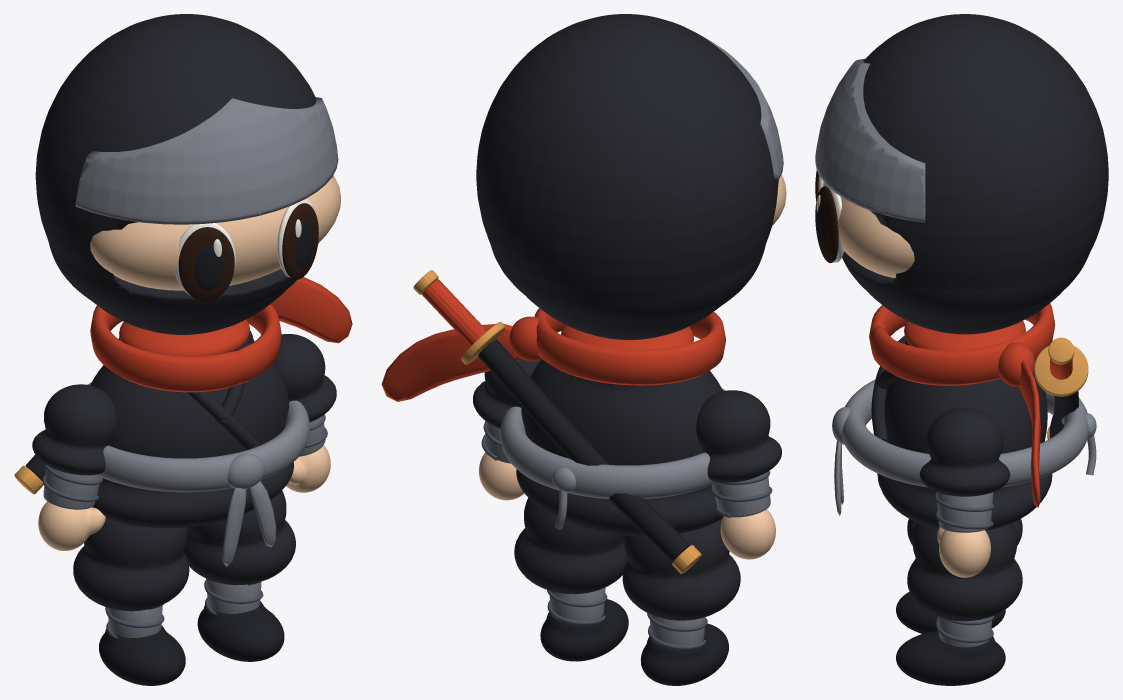
The model's file is ninja.glb.
3 renders of one model, left to right at view 1: azimuth 30°, elevation 25°; view 2: azimuth 150°, elevation 25°; view 3: azimuth 270°, elevation 25°, orthographic. The views are drawn at different scales.
Parts seen in each view (by area): view 1: Capuche, Bandeau, Veste, Visage, PantalonG, Tour, Ceinture, MancheG, PantalonD, PiedD, PiedG, MancheD (+17 smaller); view 2: Capuche, Veste, PantalonG, Tour, Ceinture, PantalonD, Fourreau, MancheG, Pan1, PiedD, PiedG, MainG (+13 smaller); view 3: Capuche, Veste, Bandeau, PantalonD, Ceinture, Tour, MancheD, PiedD, Visage, MainD, Cou, Tsuba (+12 smaller).
Part boxes in pixels (bbox=[...]): Capuche: bbox=[35, 14, 332, 334]; Bandeau: bbox=[75, 97, 338, 224]; Veste: bbox=[90, 330, 294, 528]; Visage: bbox=[90, 175, 340, 290]; PantalonG: bbox=[73, 518, 189, 611]; Tour: bbox=[90, 304, 281, 392]; Ceinture: bbox=[87, 382, 309, 492]; MancheG: bbox=[32, 384, 116, 475]; PantalonD: bbox=[183, 490, 295, 585]; PiedD: bbox=[197, 601, 284, 661]; PiedG: bbox=[99, 625, 185, 685]; MancheD: bbox=[274, 334, 336, 422]; Capuche: bbox=[476, 14, 778, 339]; Veste: bbox=[516, 359, 723, 536]; PantalonG: bbox=[622, 518, 740, 620]; Tour: bbox=[534, 308, 725, 385]; Ceinture: bbox=[500, 388, 725, 499]; PantalonD: bbox=[514, 498, 628, 594]; Fourreau: bbox=[478, 339, 689, 561]; MancheG: bbox=[696, 390, 781, 482]; Pan1: bbox=[381, 324, 520, 401]; PiedD: bbox=[540, 599, 628, 661]; PiedG: bbox=[640, 623, 728, 685]; MainG: bbox=[720, 509, 775, 559]; Capuche: bbox=[842, 14, 1108, 334]; Veste: bbox=[877, 339, 1052, 530]; Bandeau: bbox=[815, 58, 925, 222]; PantalonD: bbox=[907, 523, 1022, 621]; Ceinture: bbox=[842, 380, 1088, 487]; Tour: bbox=[869, 303, 1055, 385]; MancheD: bbox=[919, 408, 1010, 496]; PiedD: bbox=[896, 631, 1005, 685]; Visage: bbox=[823, 182, 914, 277]; MainD: bbox=[937, 527, 990, 577]; Cou: bbox=[904, 320, 1025, 350]; Tsuba: bbox=[1034, 345, 1088, 396].
Bounding box in the file's own units: 0.7114 × 1.23 × 0.5179.
Materials: 9 (1 with a texture image).
